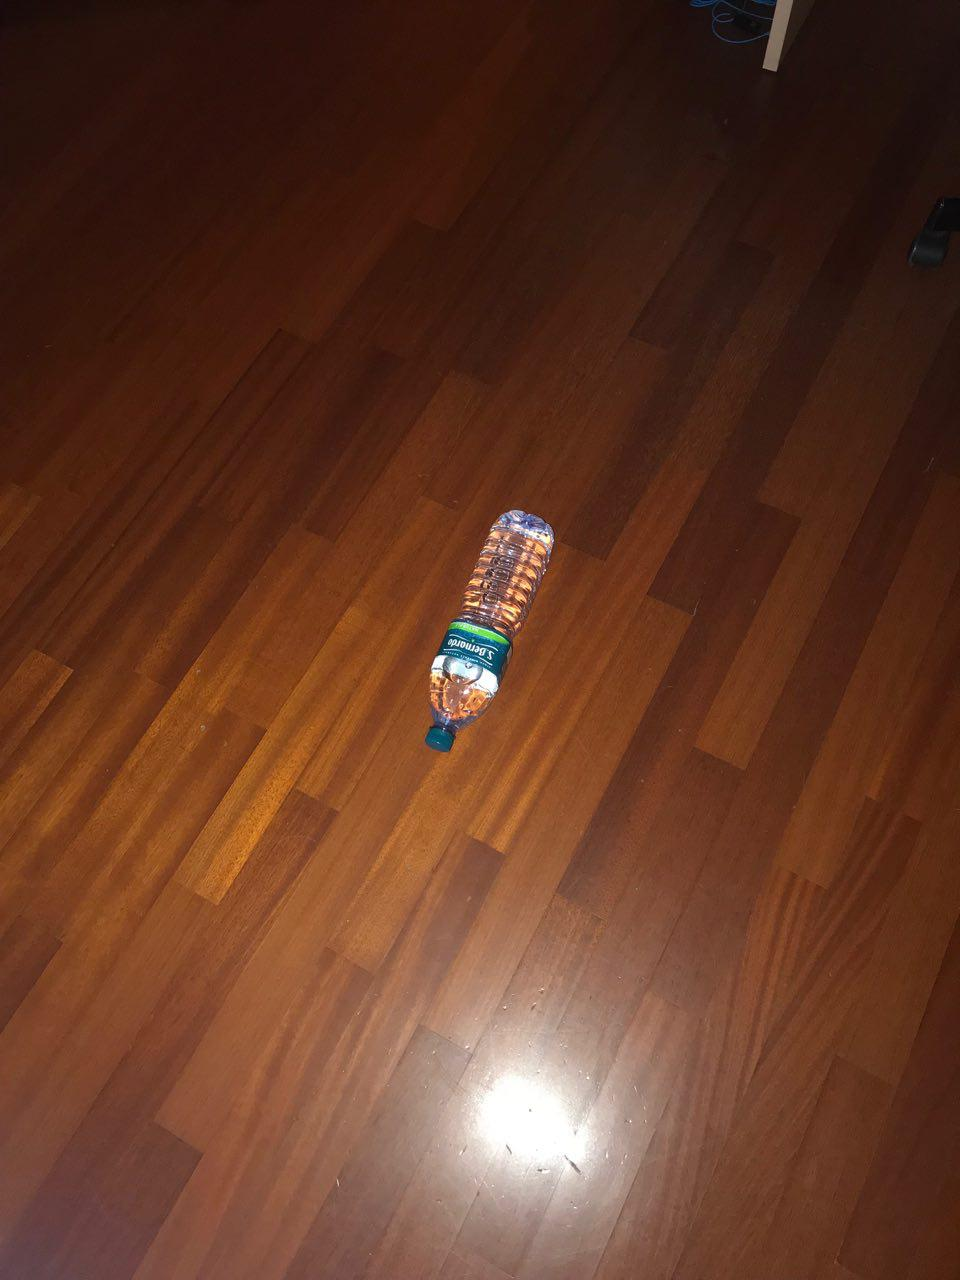san_bernardo: (423, 508, 556, 754)
